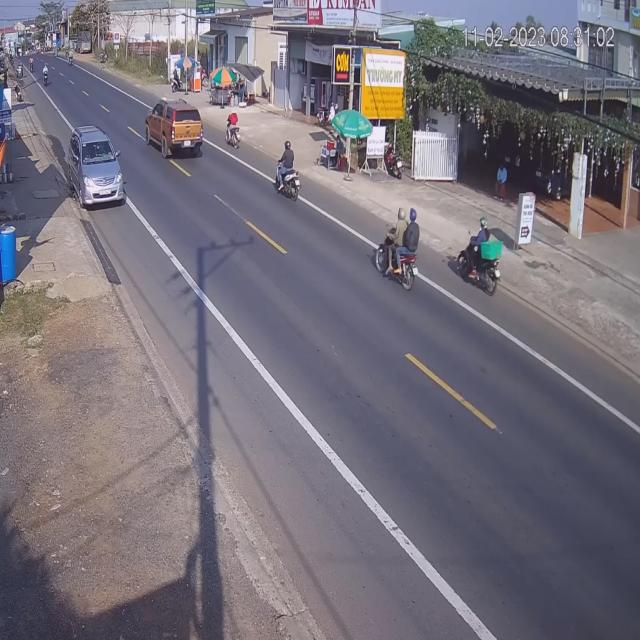car: (67, 128, 125, 211), (145, 98, 203, 163)
motorbike: (376, 208, 422, 293), (458, 219, 505, 298), (274, 144, 302, 208), (226, 112, 242, 153)
